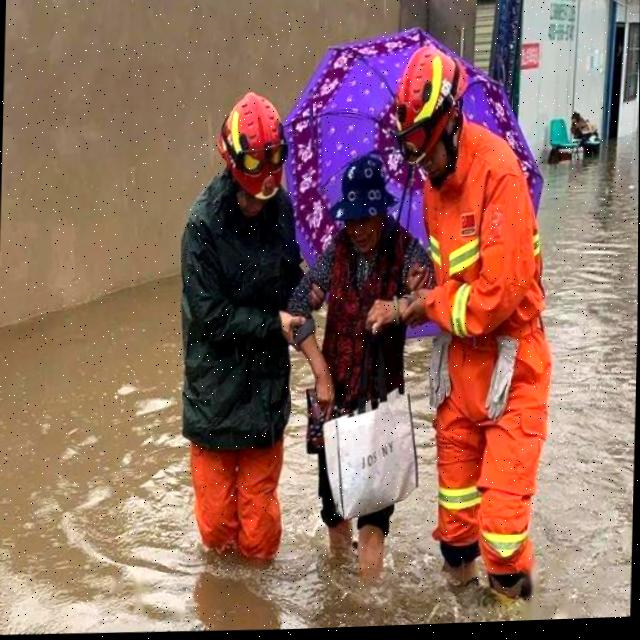civilian: (297, 125, 433, 614)
rescuer: (383, 34, 586, 618), (148, 53, 323, 594)
